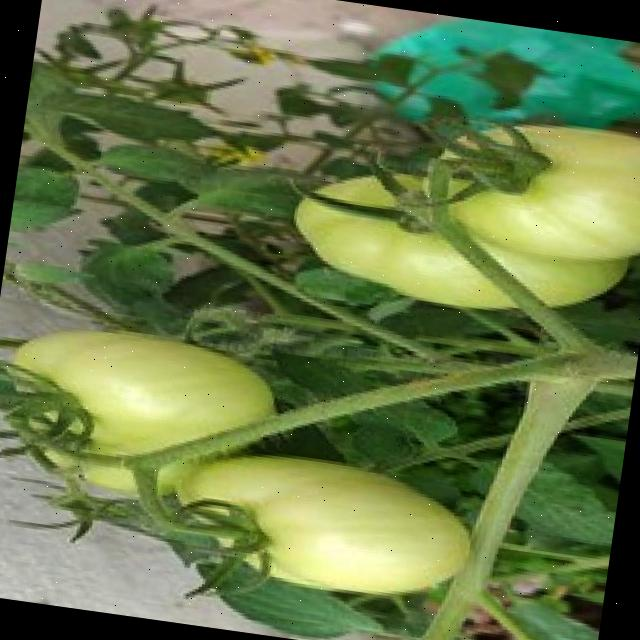tomato: (0, 8, 640, 626)
